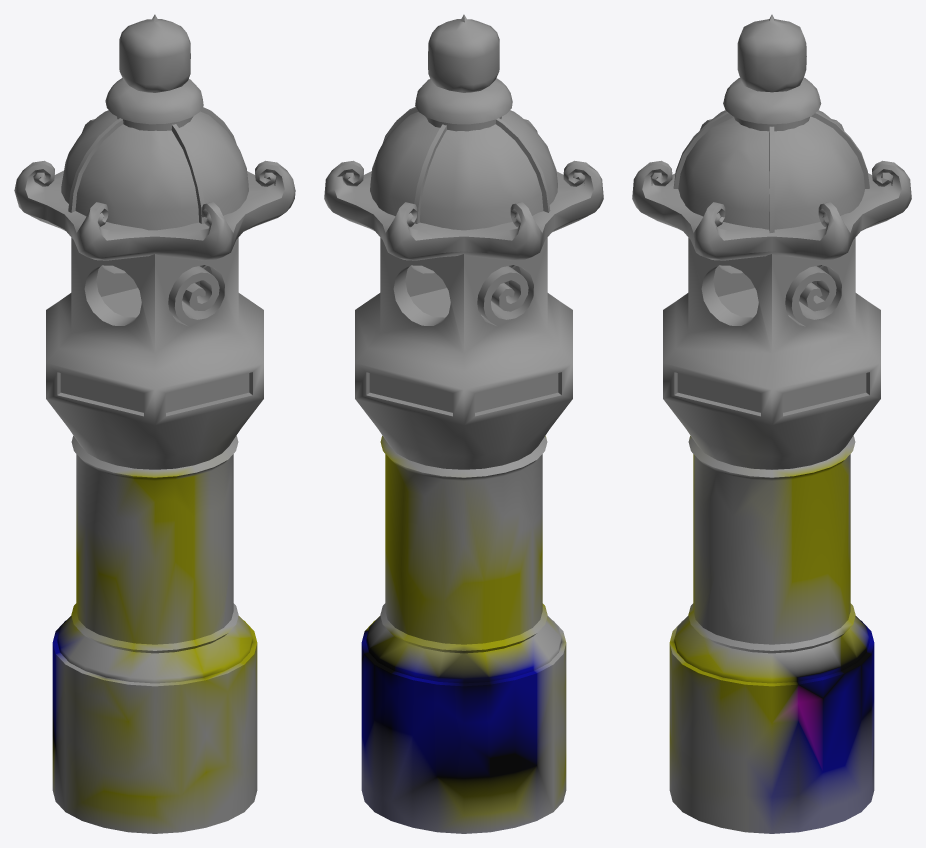
File: SM_ENV_LKNVLD_GardenLantern_A.gltf
3 renders of one model, left to right at view 1: azimuth 30°, elevation 25°; view 2: azimuth 150°, elevation 25°; view 3: azimuth 270°, elevation 25°, orthographic.
Parts seen in each view (by area): view 1: SM_ENV_LKNVLD_GardenLantern_A; view 2: SM_ENV_LKNVLD_GardenLantern_A; view 3: SM_ENV_LKNVLD_GardenLantern_A.
Boxes of the visible parts, x1,y1,x2,y2 form: SM_ENV_LKNVLD_GardenLantern_A: (14,14,295,833); SM_ENV_LKNVLD_GardenLantern_A: (324,14,603,833); SM_ENV_LKNVLD_GardenLantern_A: (632,14,911,833).
Bounding box in the file's own units: 1.39 × 4.73 × 1.54.
